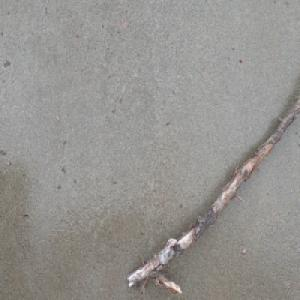Wood: (125, 96, 300, 294)
